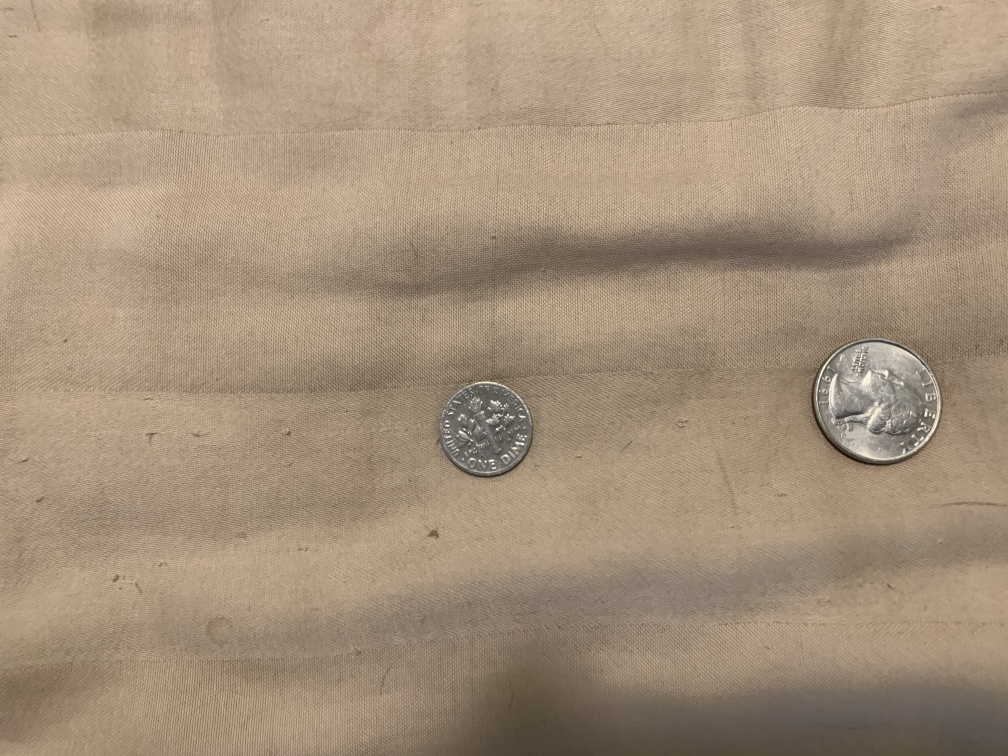dime: (437, 377, 538, 482)
quarter: (807, 336, 945, 471)
